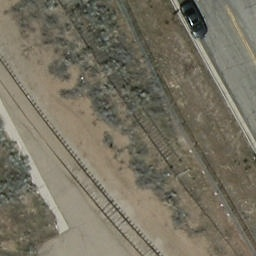car: (181, 0, 208, 37)
